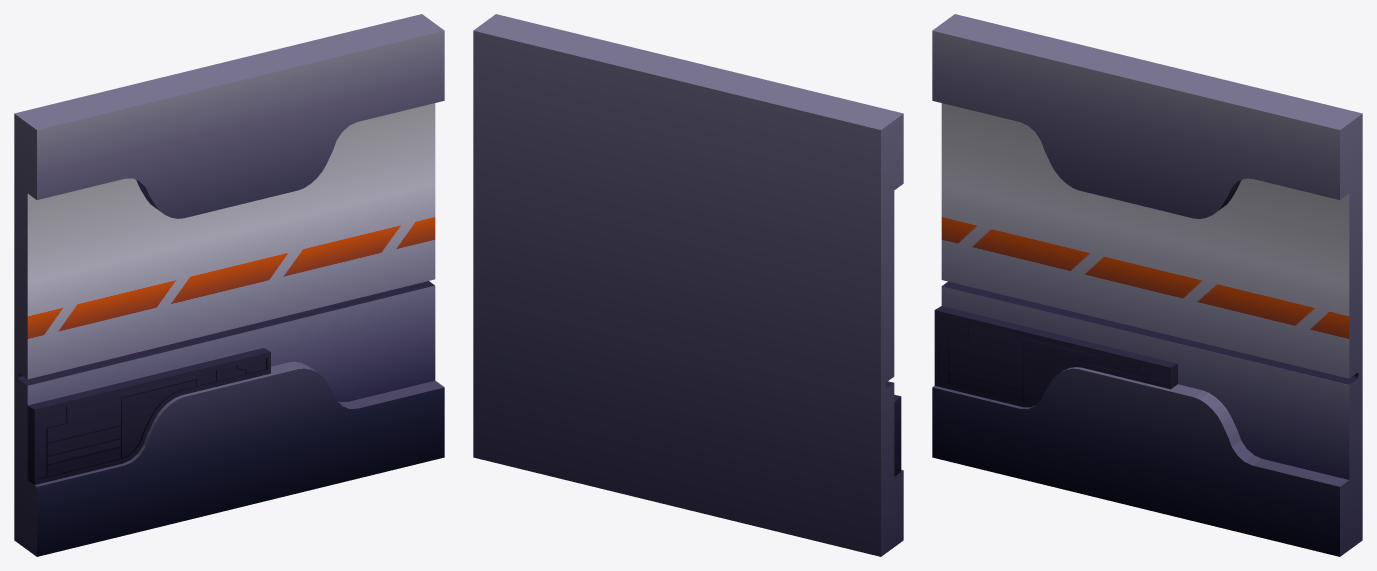
Rendered from Wall_SquarePanel.fbx.
The picture shows the model from 3 angles, left to right: view 1: azimuth 30°, elevation 25°; view 2: azimuth 150°, elevation 25°; view 3: azimuth 330°, elevation 25°; orthographic projection.
Parts seen in each view (by area): view 1: TEXTURED_WT_SquarePanel; view 2: TEXTURED_WT_SquarePanel; view 3: TEXTURED_WT_SquarePanel.
Part boxes in pixels (<box>): TEXTURED_WT_SquarePanel: <box>14,14,444,556</box>; TEXTURED_WT_SquarePanel: <box>473,14,903,556</box>; TEXTURED_WT_SquarePanel: <box>932,14,1362,556</box>.
Size of the model in its own units: 2 by 2 by 0.1934.
1 material, 1 textured.
